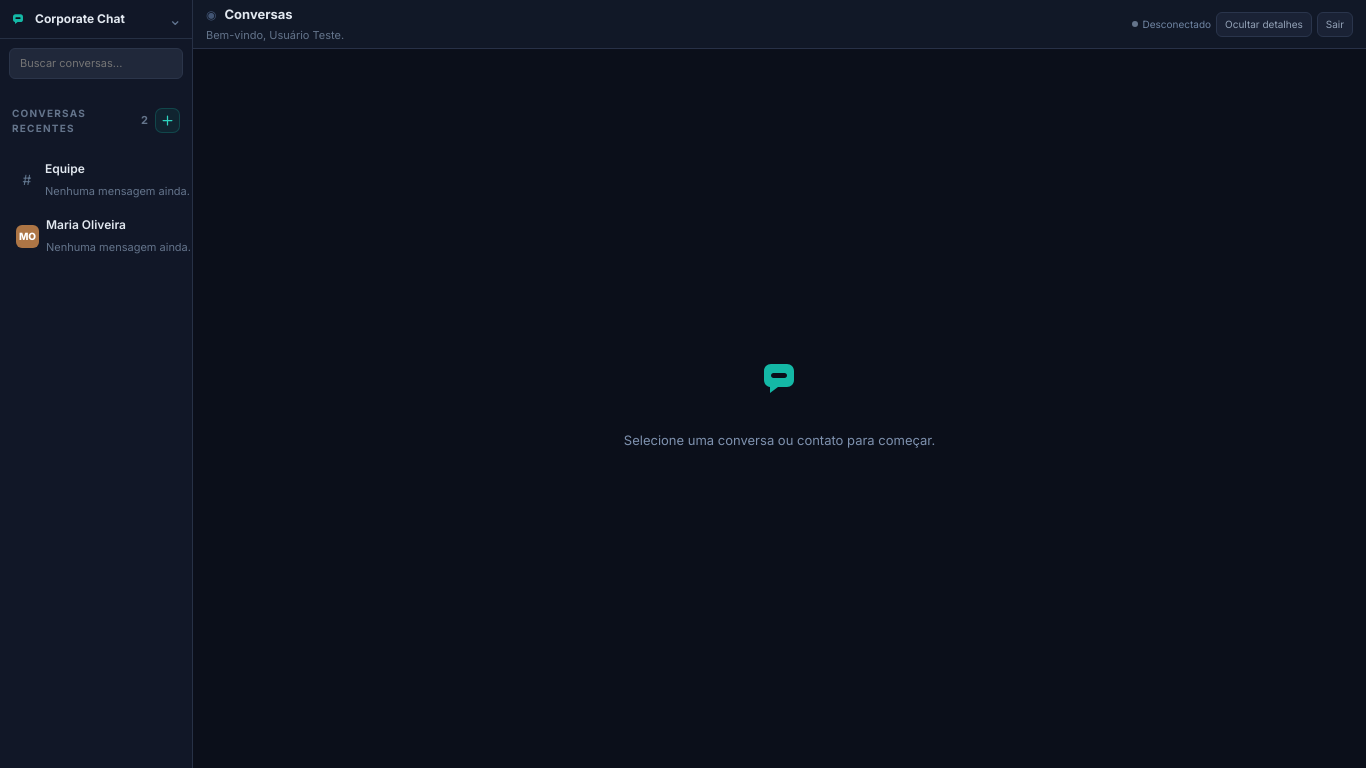
Scenario: deve permitir fechar a conversa selecionada
The image size is (1366, 768).
Click the button with aria-label "Abrir grupo Equipe".
click(104, 180)  # box x1=9 y1=152 x2=198 y2=208
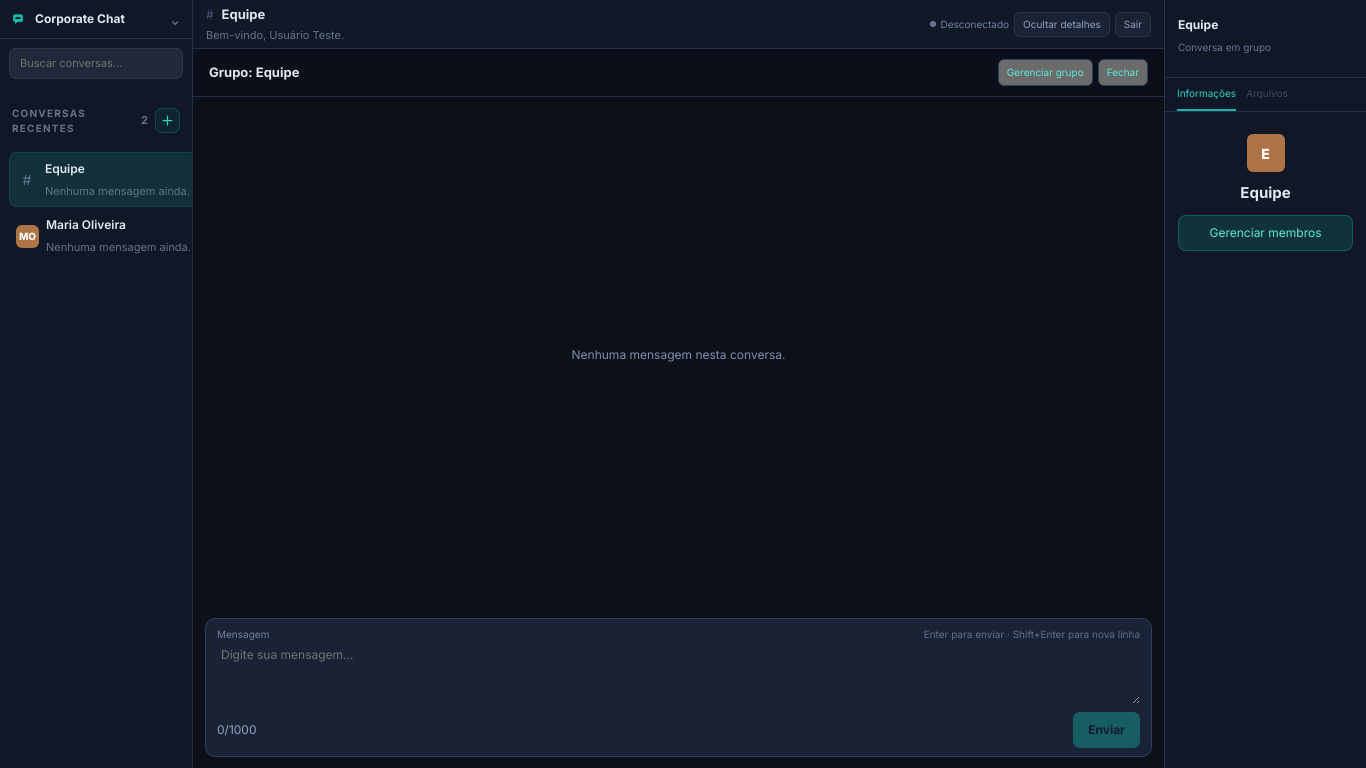
Check: the heading "Grupo: Equipe" is shown, box x1=209 y1=63 x2=299 y2=82
Click the button with aria-label "Fechar conversa".
click(1123, 72)  # box x1=1098 y1=59 x2=1148 y2=86
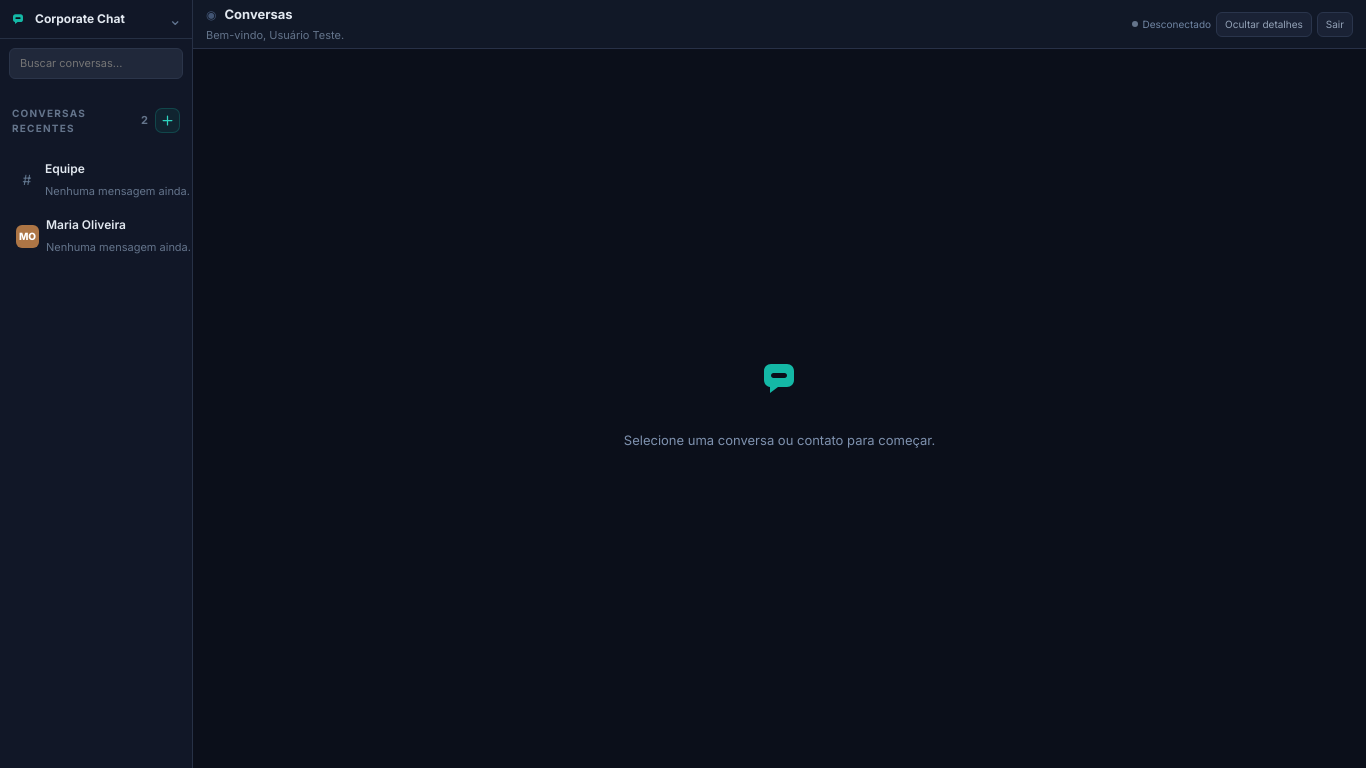
Check: the heading "Grupo: Equipe" is gone
